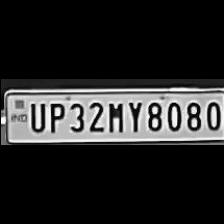0: (164, 99, 182, 131), (203, 98, 221, 130)
2: (85, 99, 103, 133)
3: (65, 99, 83, 133)
8: (143, 98, 163, 132), (184, 98, 202, 132)
M: (104, 99, 124, 133)
P: (44, 100, 64, 134)
U: (26, 100, 44, 134)
Y: (124, 99, 142, 133)
